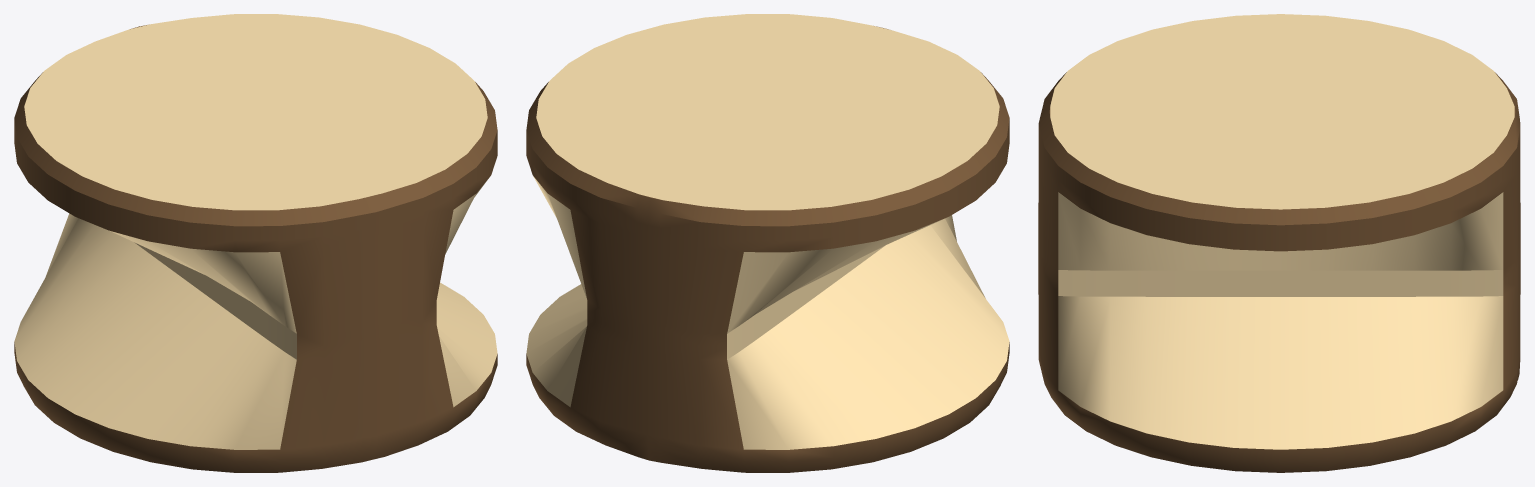
File: wood trunk smooth testing.fbx
The picture shows the model from 3 angles, left to right: view 1: azimuth 30°, elevation 25°; view 2: azimuth 150°, elevation 25°; view 3: azimuth 270°, elevation 25°; orthographic projection.
Parts seen in each view (by area): view 1: double log.003; view 2: double log.003; view 3: double log.003.
Part boxes in pixels (x1=…): double log.003: x1=14, y1=14, x2=497, y2=472; double log.003: x1=526, y1=14, x2=1009, y2=472; double log.003: x1=1038, y1=14, x2=1520, y2=472.
Size of the model in its own units: 50 by 30 by 50.
